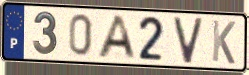0: (67, 12, 95, 59)
2: (137, 15, 168, 63)
3: (31, 10, 59, 58)
A: (95, 14, 139, 61)
K: (211, 19, 237, 67)
V: (172, 16, 205, 65)
